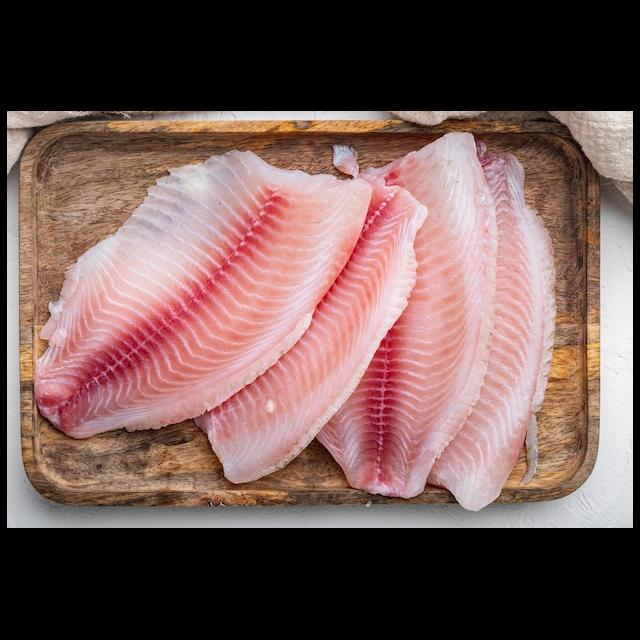fish: (25, 148, 376, 461)
